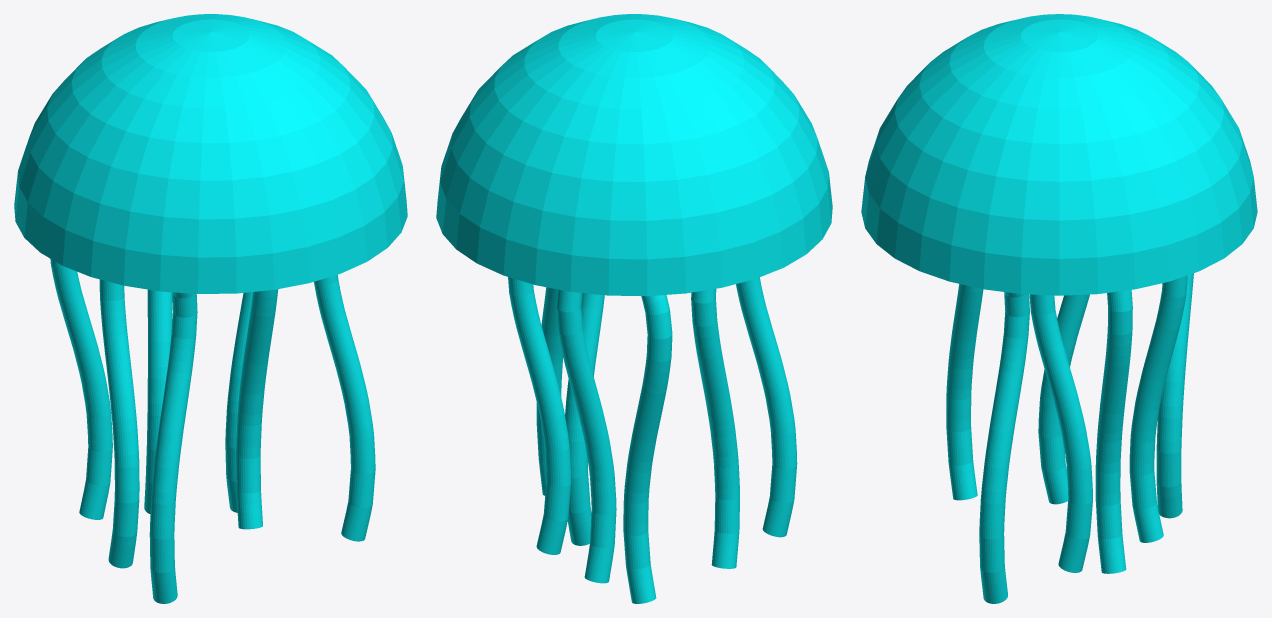
Rendered from agua viva.fbx.
3 renders of one model, left to right at view 1: azimuth 30°, elevation 25°; view 2: azimuth 150°, elevation 25°; view 3: azimuth 270°, elevation 25°, orthographic.
Parts seen in each view (by area): view 1: Sphere; view 2: Sphere; view 3: Sphere.
Part boxes in pixels (bbox=[...]): Sphere: bbox=[14, 14, 407, 603]; Sphere: bbox=[436, 14, 832, 603]; Sphere: bbox=[861, 14, 1257, 603].
Bounding box in the file's own units: 200 × 287 × 200.
1 material, 1 textured.
